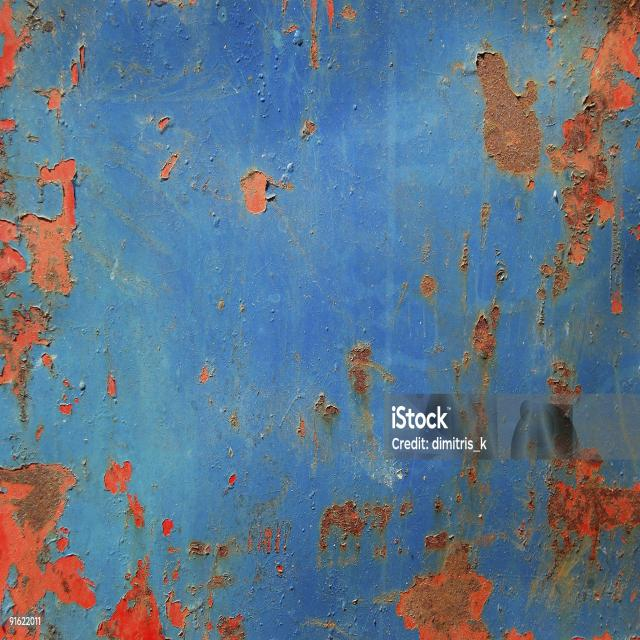Uniform Corrosion: (546, 94, 615, 266), (547, 476, 640, 570), (401, 543, 491, 640), (476, 52, 542, 174), (0, 463, 77, 541), (318, 500, 394, 564), (346, 341, 394, 394), (547, 361, 582, 420), (471, 302, 500, 360), (603, 80, 634, 119), (611, 271, 622, 313), (399, 500, 413, 518), (462, 351, 471, 367)
